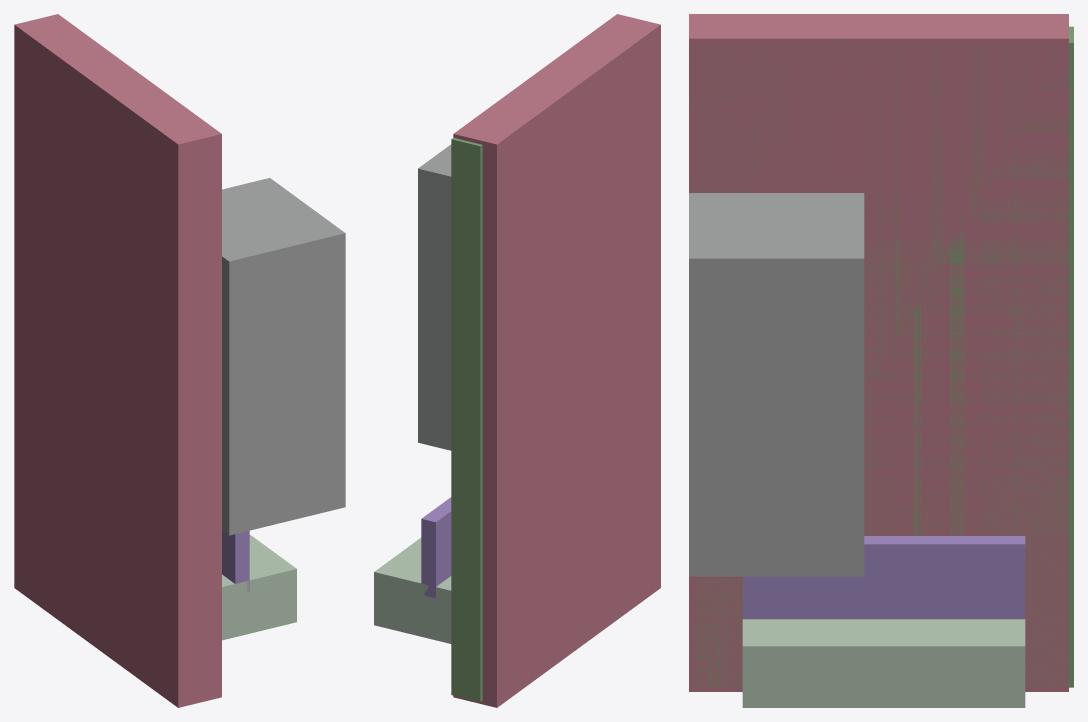
File: 199518_pred.glb
3 renders of one model, left to right at view 1: azimuth 30°, elevation 25°; view 2: azimuth 150°, elevation 25°; view 3: azimuth 270°, elevation 25°, orthographic. The views are drawn at different scales.
Visible parts, largest first — view 1: world; view 2: world; view 3: world.
Part boxes in pixels (x1,y1,x2,y2): world: (14, 14, 345, 707); world: (374, 14, 660, 707); world: (689, 14, 1073, 707).
Size of the model in its own units: 2.3 by 7.4 by 3.95.
